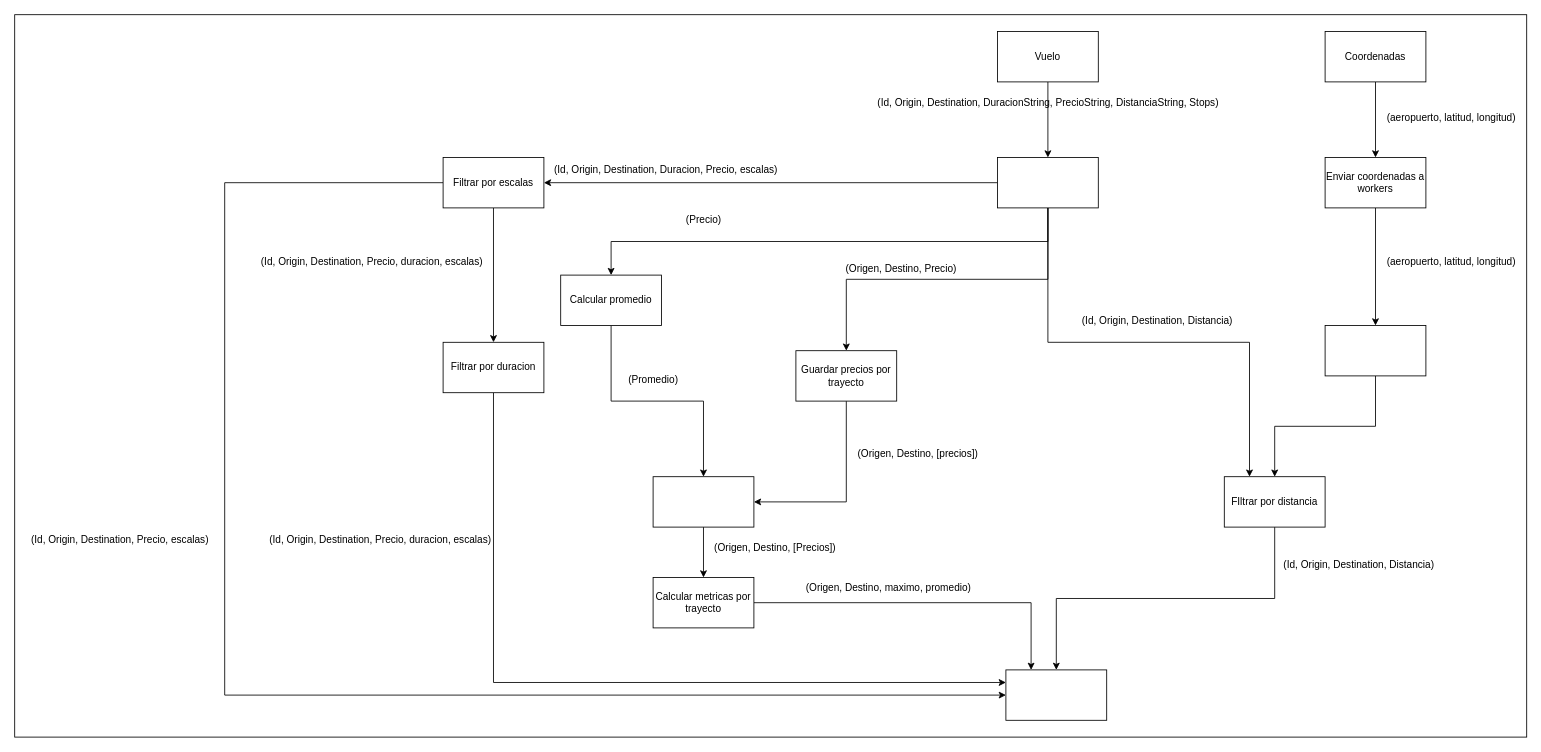
Some shapes in this 1541 by 752 pixel diagram are drawn without their labels. The shapes that lost their labels are listed below. From the top down, each one's centre as x and y in pixels, then its label:
(x=1047, y=182): Parsear datos vuelo
(x=1375, y=350): Guardar coordenadas
(x=703, y=501): Filtrar por trayecto
(x=1056, y=694): Enviar resultado
